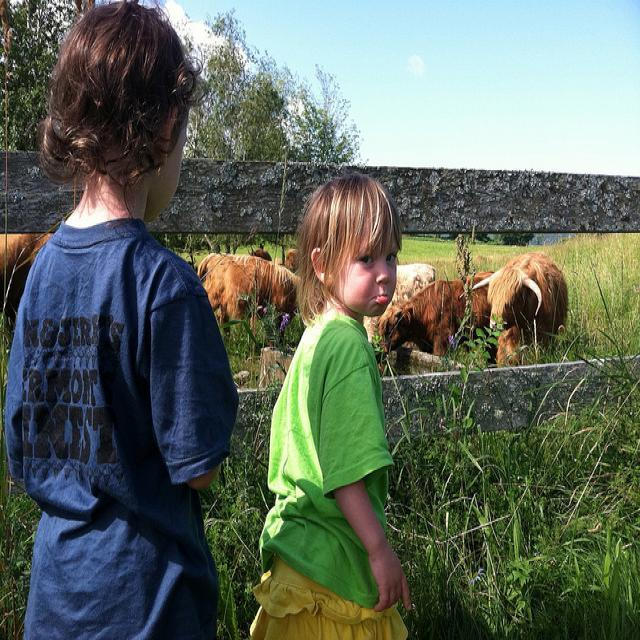cow: (376, 269, 495, 358), (470, 249, 566, 347), (195, 250, 297, 316), (0, 230, 51, 315), (273, 248, 295, 269)
